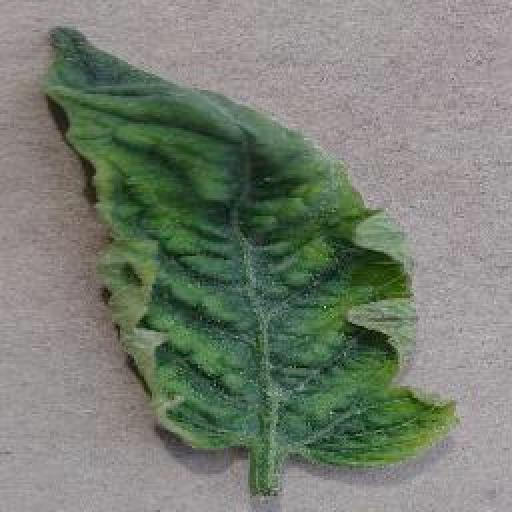disease_tomato: (36, 24, 462, 474)
